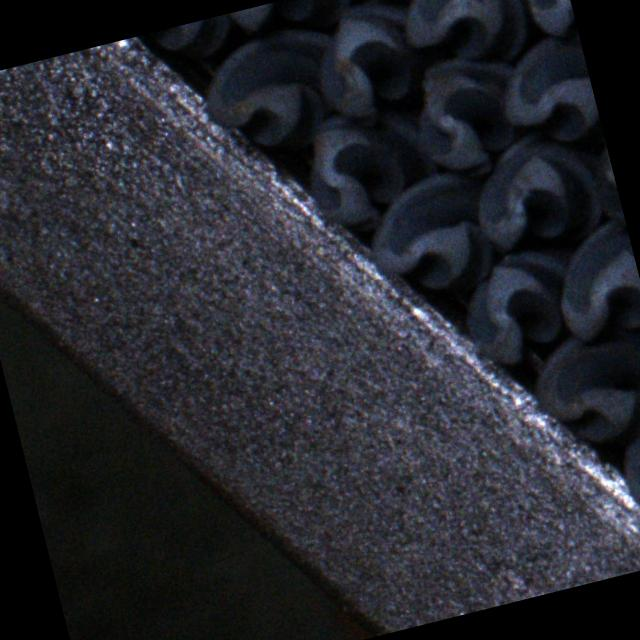tool_b: (192, 22, 356, 164), (292, 97, 448, 239), (357, 166, 503, 308), (460, 122, 610, 258), (398, 44, 536, 184), (450, 240, 590, 374), (526, 320, 640, 455), (304, 0, 427, 120), (490, 26, 602, 152), (389, 0, 559, 81), (540, 218, 640, 347), (613, 409, 640, 530)
